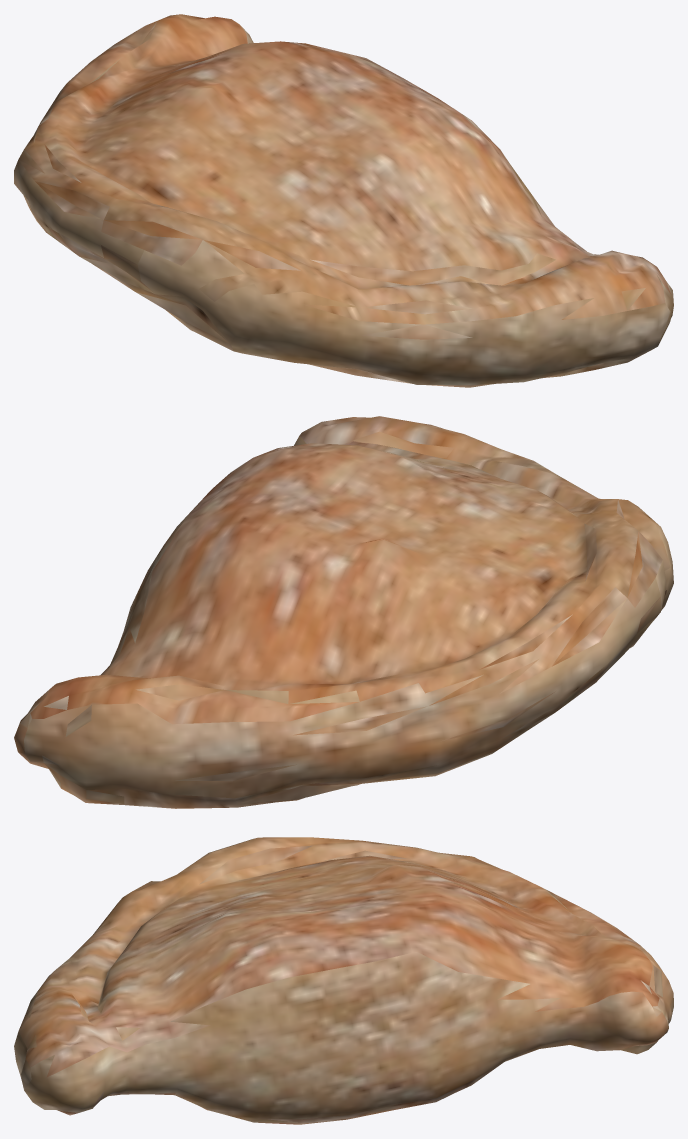
Rendered from AL_EmpanadasDulces_Static.fbx.
3 views of the same model, one above another, from view 1: azimuth 30°, elevation 25°; view 2: azimuth 150°, elevation 25°; view 3: azimuth 270°, elevation 25° (orthographic). The views are drawn at different scales.
Visible parts, largest first — view 1: Object; view 2: Object; view 3: Object.
Boxes of the visible parts, box(x1,y1,x2,y2) form: Object: box(14, 14, 673, 387); Object: box(14, 416, 673, 808); Object: box(14, 837, 673, 1124).
Size of the model in its own units: 0.4185 by 0.1321 by 0.2809.
